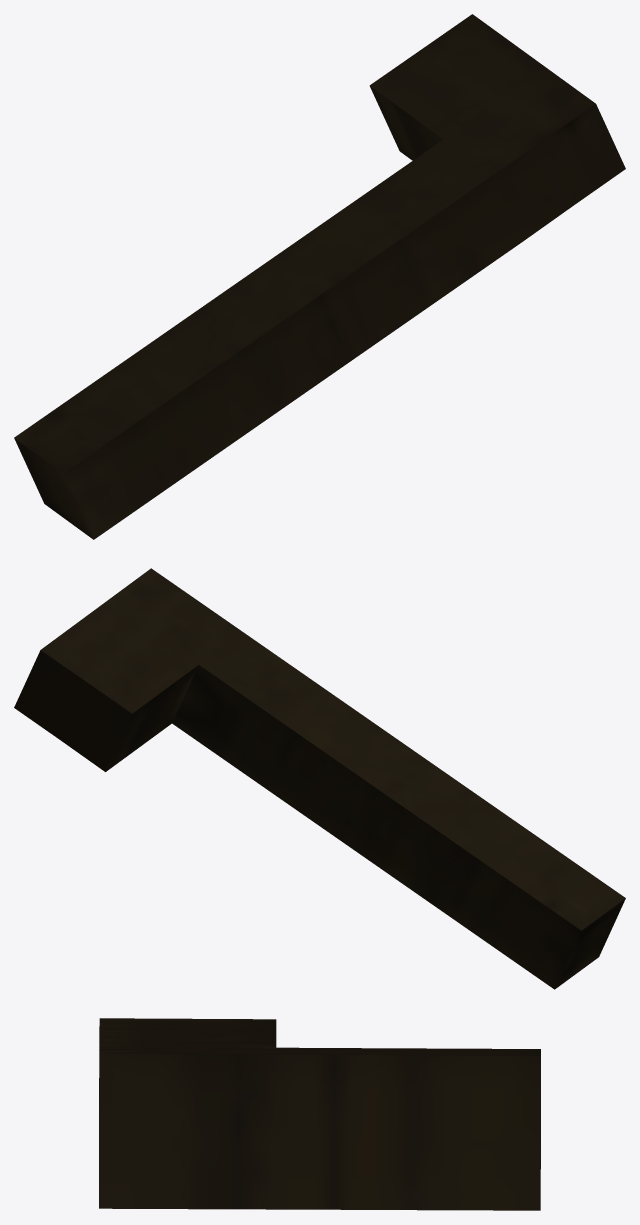
The model's file is Picaporte.fbx.
3 renders of one model, top to bottom at view 1: azimuth 30°, elevation 25°; view 2: azimuth 150°, elevation 25°; view 3: azimuth 270°, elevation 25°, orthographic. The views are drawn at different scales.
Visible parts, largest first — view 1: Picaporte; view 2: Picaporte; view 3: Picaporte.
Part boxes in pixels (box(x1,y1,x2,y2)): Picaporte: box(14, 14, 625, 539); Picaporte: box(14, 568, 625, 989); Picaporte: box(99, 1018, 540, 1210).
Bounding box in the file's own units: 16.91 × 9.01 × 6.46.
